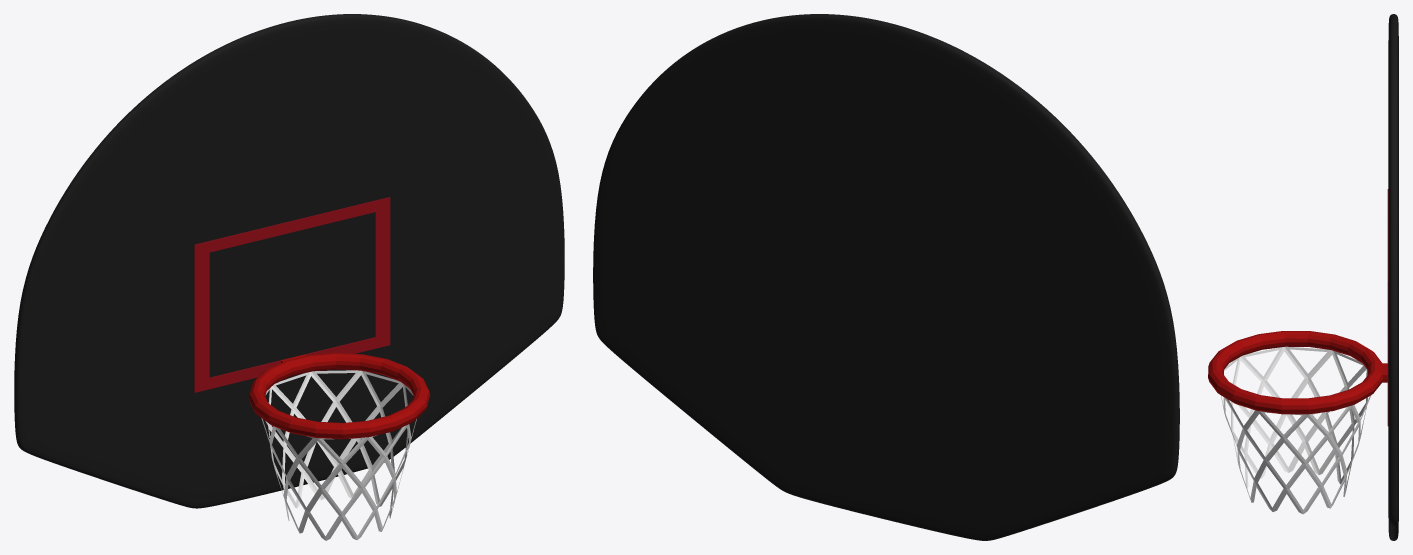
File: Ring-Tembok.fbx
3 renders of one model, left to right at view 1: azimuth 30°, elevation 25°; view 2: azimuth 150°, elevation 25°; view 3: azimuth 270°, elevation 25°, orthographic. The views are drawn at different scales.
Visible parts, largest first — view 1: Circle, Jaring, Plane, Torus; view 2: Circle; view 3: Jaring, Torus, Circle, Plane.
Boxes of the visible parts, box(x1,y1,x2,y2) form: Circle: box(14, 14, 564, 508); Jaring: box(261, 370, 416, 540); Plane: box(194, 197, 390, 392); Torus: box(248, 353, 430, 439); Circle: box(593, 14, 1179, 540); Jaring: box(1221, 346, 1371, 514); Torus: box(1208, 331, 1387, 414); Circle: box(1388, 14, 1398, 540); Plane: box(1387, 189, 1388, 425).
Bounding box in the file's own units: 3549 × 2876 × 1095.
